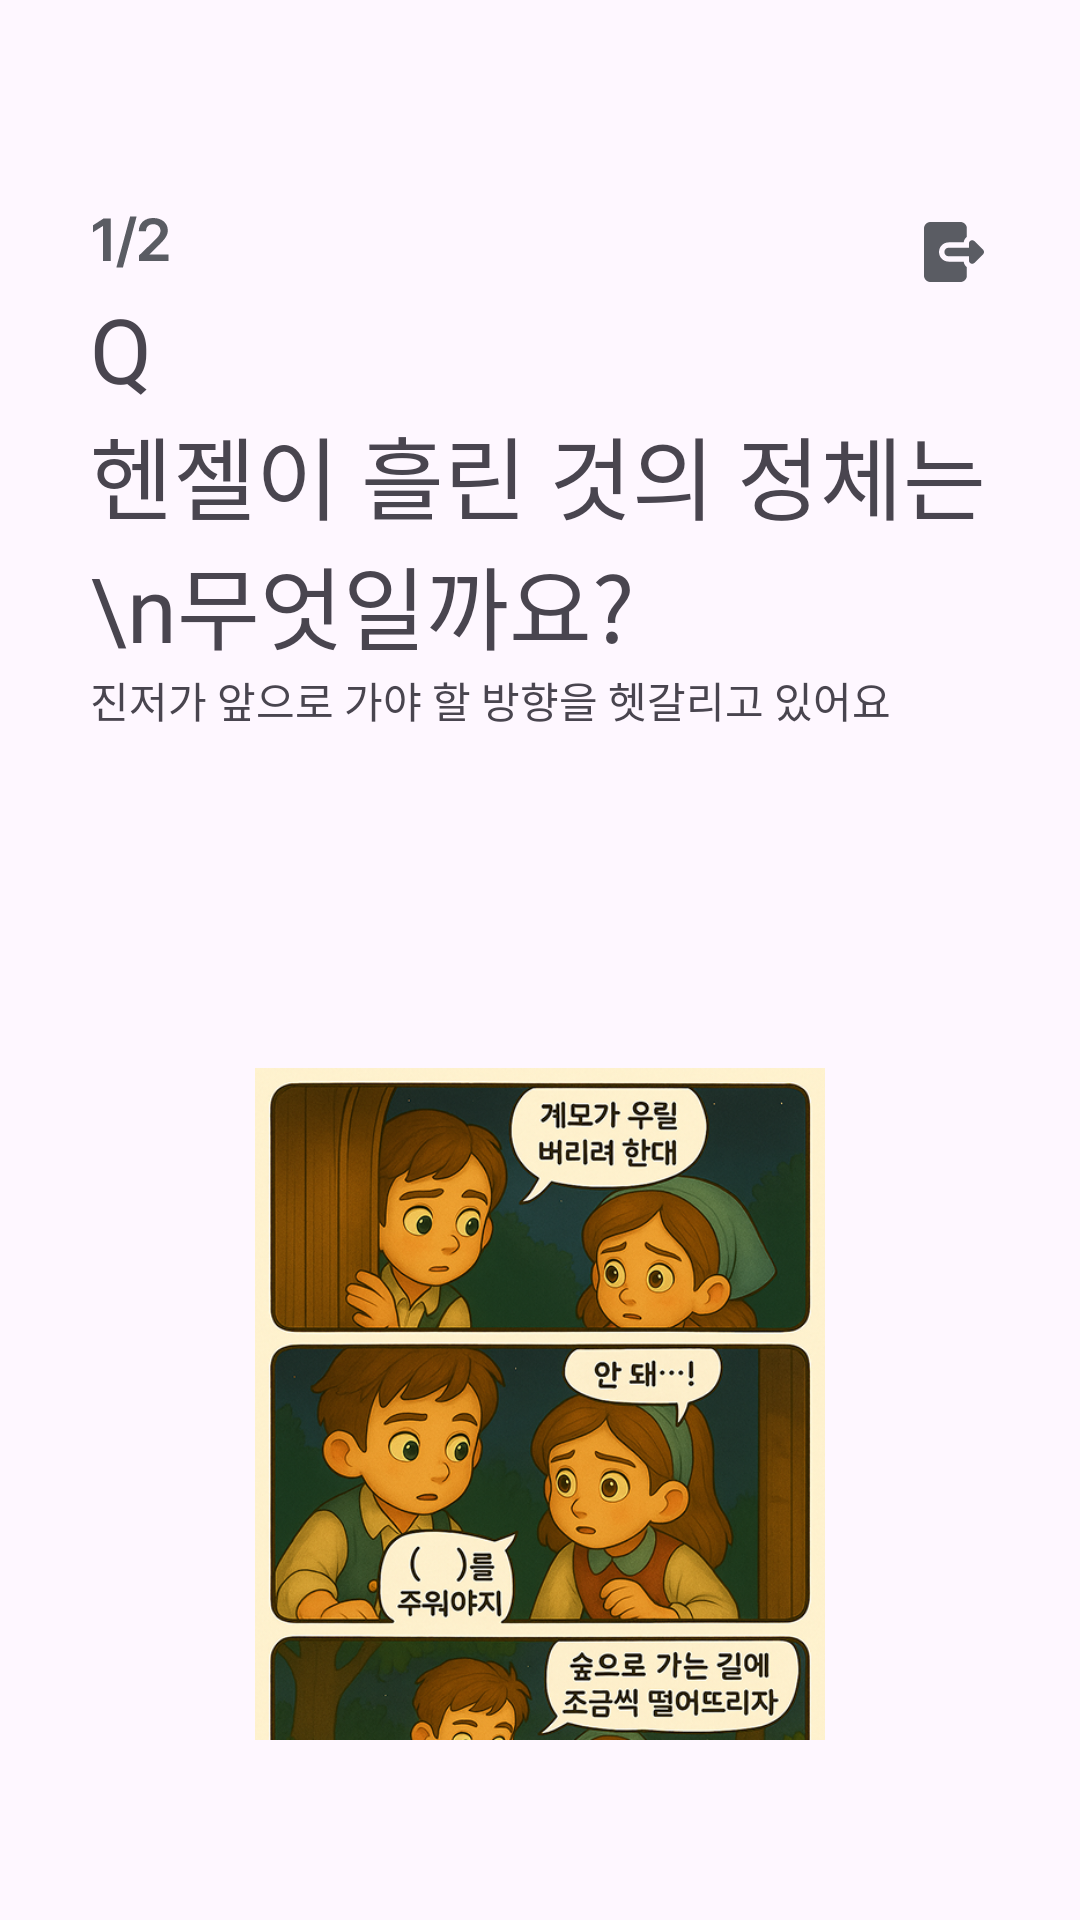

Where to tap for icons on this 1080px×1920px app screen, as [x,y]:
exit: [954,252]
